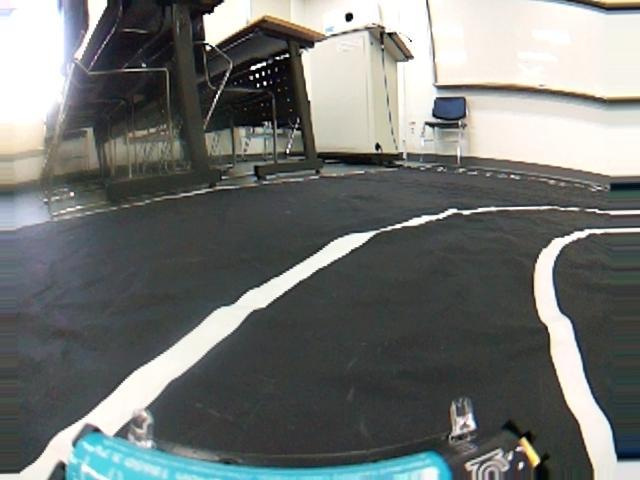right: (3, 202, 640, 480)
